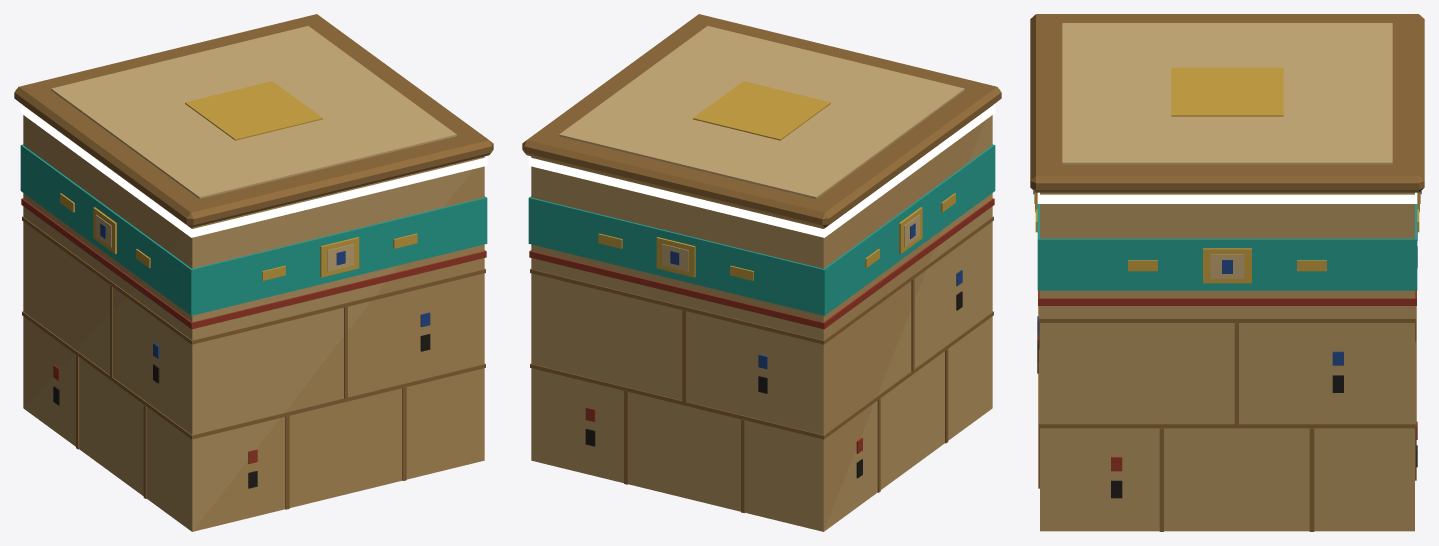
Rendered from kit-egypt-wall.glb.
3 renders of one model, left to right at view 1: azimuth 30°, elevation 25°; view 2: azimuth 150°, elevation 25°; view 3: azimuth 270°, elevation 25°, orthographic. The views are drawn at different scales.
Visible parts, largest first — view 1: kit-egypt-wall; view 2: kit-egypt-wall; view 3: kit-egypt-wall.
Boxes of the visible parts, x1=… form: kit-egypt-wall: x1=14, y1=14, x2=493, y2=531; kit-egypt-wall: x1=522, y1=14, x2=1001, y2=531; kit-egypt-wall: x1=1030, y1=14, x2=1424, y2=531.
Bounding box in the file's own units: 2.1 × 2.12 × 2.1.
